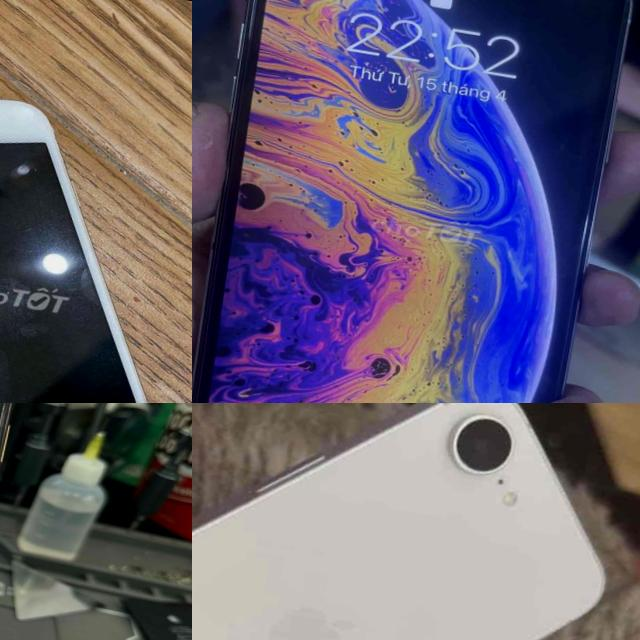gen_16: (192, 403, 640, 640)
gen_7_8: (0, 63, 192, 403)
gen_x_xs: (192, 0, 632, 403)
